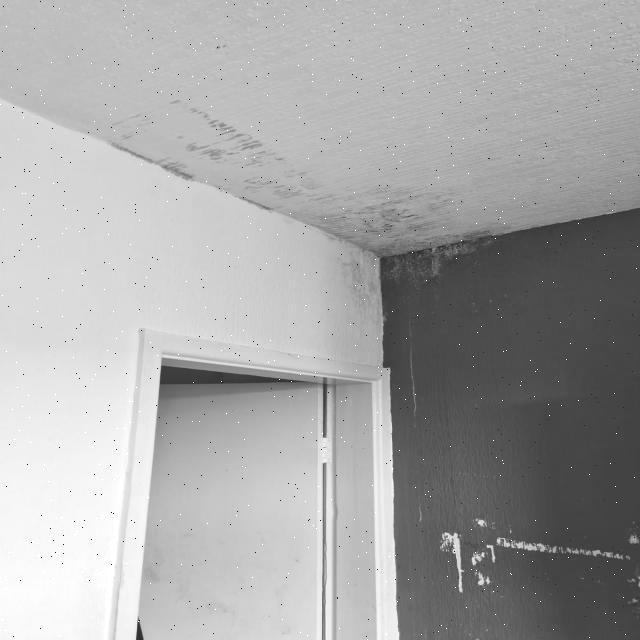stain marks: (92, 103, 322, 206), (323, 182, 493, 310)
